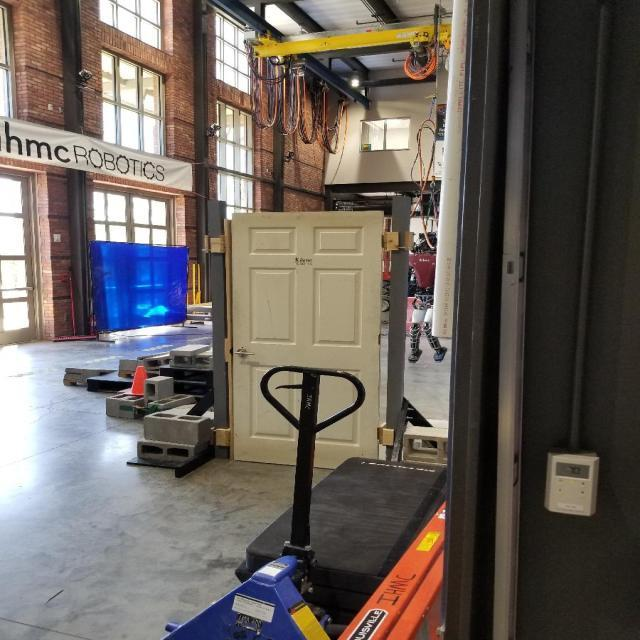door: (227, 210, 386, 477), (227, 346, 256, 359)
